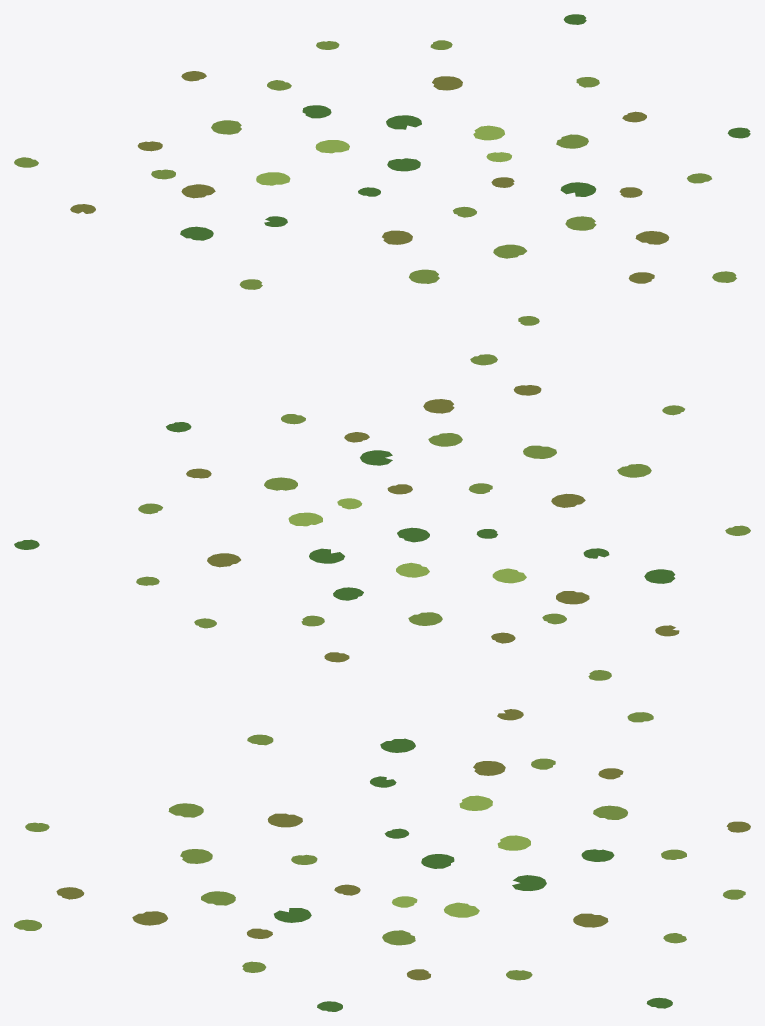
File: plant_nymphaea_set_micro_link.fbx
The picture shows the model from 3 angles, top to bottom: view 1: azimuth 30°, elevation 25°; view 2: azimuth 150°, elevation 25°; view 3: azimuth 270°, elevation 25°; orthographic projection. The views are drawn at different scales.
Parts seen in each view (by area): view 1: plant_nymphaea_set_micro_link; view 2: plant_nymphaea_set_micro_link; view 3: plant_nymphaea_set_micro_link.
Boxes of the visible parts, x1,y1,x2,y2 form: plant_nymphaea_set_micro_link: (14, 14, 750, 325); plant_nymphaea_set_micro_link: (14, 354, 750, 680); plant_nymphaea_set_micro_link: (14, 709, 750, 1011).
Size of the model in its own units: 121 by 4.19e-06 by 125.
